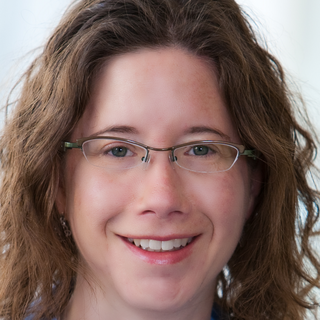eye: (179, 139, 224, 162), (97, 140, 140, 164)
